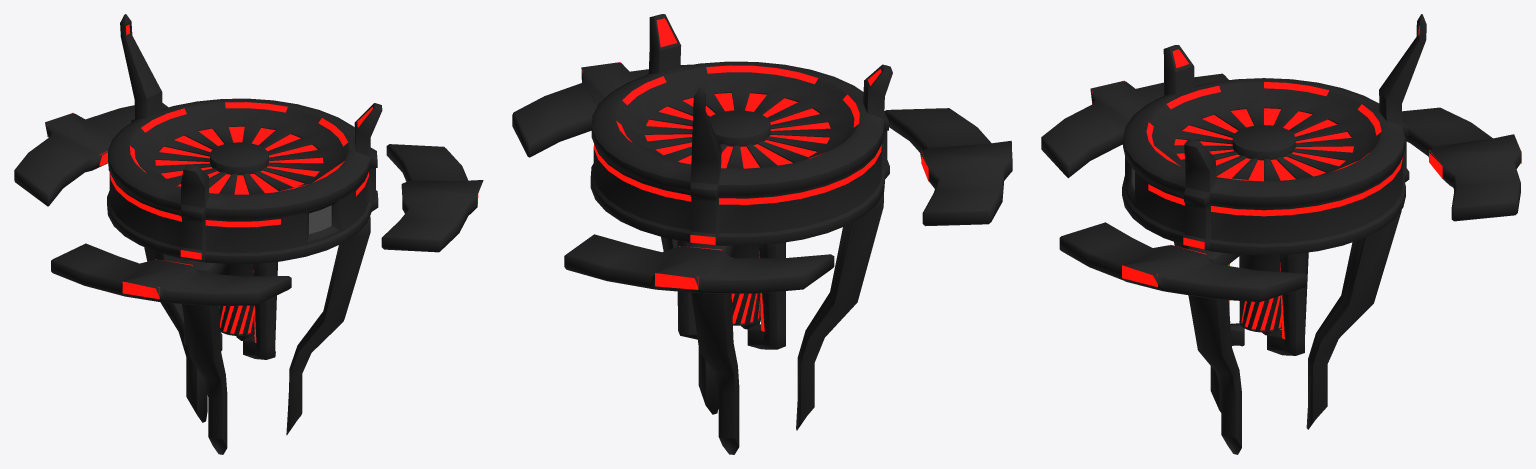
Rendered from SpaceStation.fbx.
The picture shows the model from 3 angles, left to right: view 1: azimuth 30°, elevation 25°; view 2: azimuth 150°, elevation 25°; view 3: azimuth 270°, elevation 25°; orthographic projection. The views are drawn at different scales.
Parts seen in each view (by area): view 1: Cylinder, Cylinder.004, Cylinder.005, Cylinder.003, Cylinder.002, Cylinder.001, Cylinder.006, Cylinder.009; view 2: Cylinder, Cylinder.003, Cylinder.004, Cylinder.005, Cylinder.001, Cylinder.002, Cylinder.008; view 3: Cylinder, Cylinder.005, Cylinder.003, Cylinder.004, Cylinder.002, Cylinder.001.
Boxes of the visible parts, left/top/right/bottom form: Cylinder: left=107, top=14, right=382, bottom=454; Cylinder.004: left=51, top=243, right=291, bottom=306; Cylinder.005: left=381, top=144, right=483, bottom=252; Cylinder.003: left=14, top=103, right=168, bottom=206; Cylinder.002: left=155, top=126, right=323, bottom=194; Cylinder.001: left=110, top=102, right=368, bottom=342; Cylinder.006: left=309, top=205, right=331, bottom=234; Cylinder.009: left=122, top=259, right=192, bottom=299; Cylinder: left=590, top=14, right=892, bottom=454; Cylinder.003: left=564, top=234, right=834, bottom=293; Cylinder.004: left=884, top=108, right=1012, bottom=226; Cylinder.005: left=512, top=62, right=691, bottom=157; Cylinder.001: left=593, top=65, right=881, bottom=331; Cylinder.002: left=645, top=93, right=830, bottom=168; Cylinder.008: left=655, top=246, right=721, bottom=289; Cylinder: left=1122, top=14, right=1426, bottom=454; Cylinder.005: left=1059, top=222, right=1306, bottom=302; Cylinder.003: left=1402, top=107, right=1521, bottom=221; Cylinder.004: left=1041, top=73, right=1228, bottom=178; Cylinder.002: left=1174, top=108, right=1353, bottom=181; Cylinder.001: left=1146, top=82, right=1402, bottom=339.
Size of the model in its own units: 865 by 751 by 815.
